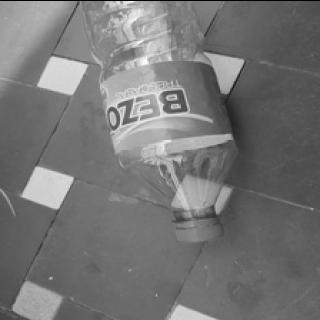plastic_bottles: (78, 0, 244, 247)
